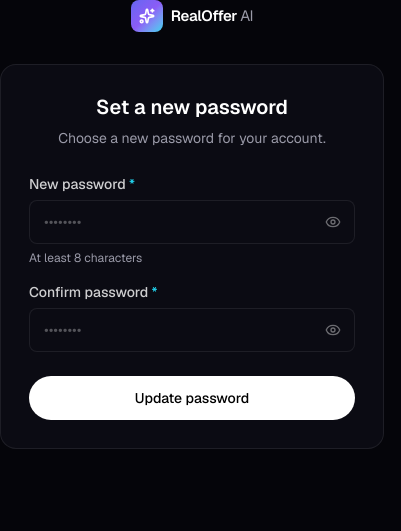
Test case: ResetPasswordForm — submission › shows a friendly error and stays on the form when Supabase rejects the password
Type "correcthorse1" into the password field labelled "New password". click: (192, 222)
box: [29,200,355,244]
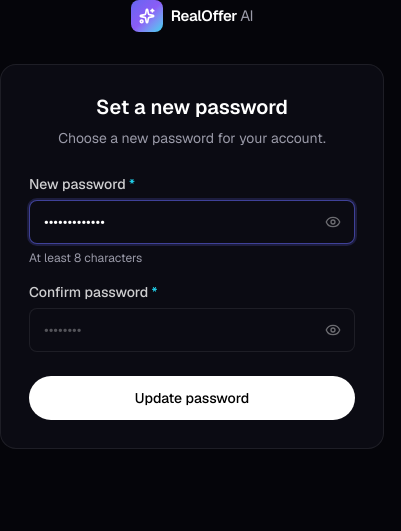
Type "correcthorse1" into the password field labelled "Confirm password". click: (192, 330)
box: [29,308,355,352]
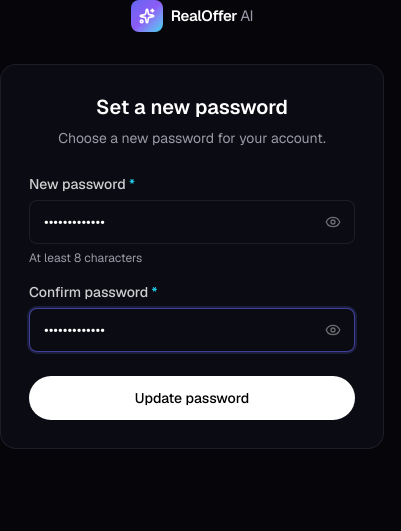
Click the button "Update password". click: (192, 398)
box: [29,376,355,420]
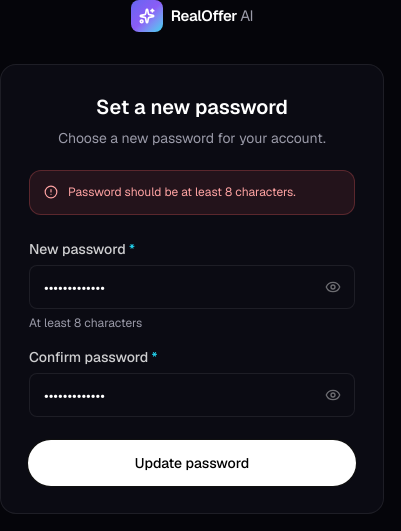
Result: the text "Password should be at least 8 characters." is shown at [29,170,355,215]
